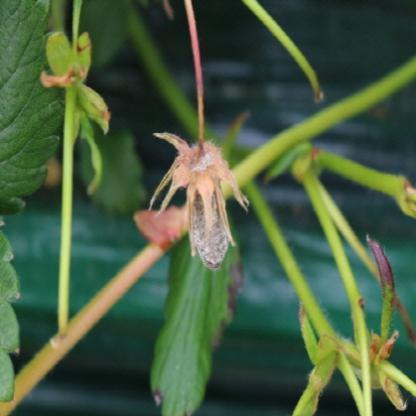Strawberry_Gray_Mold: (148, 119, 250, 271)
